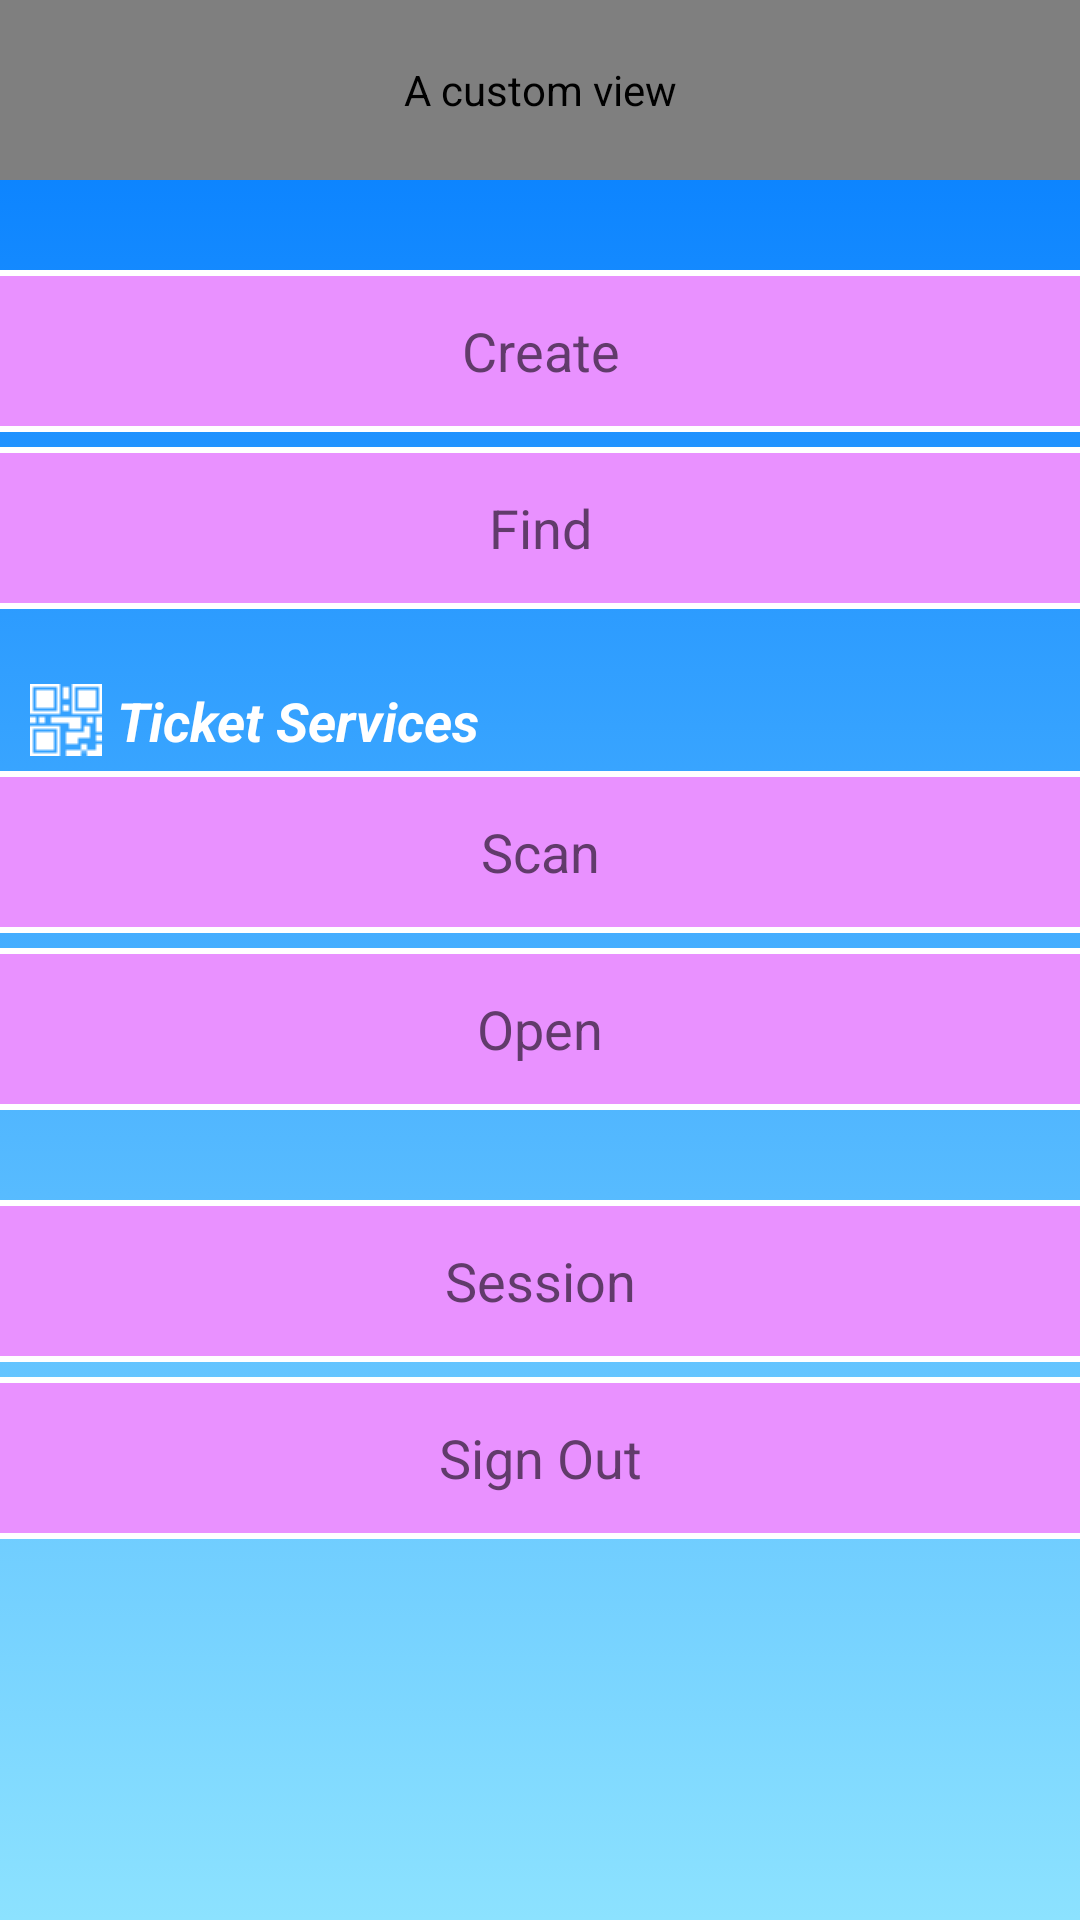

Where to tap for icons on this 1080w x 1920h app screen, as [x,y]:
qr code: [66,720]
